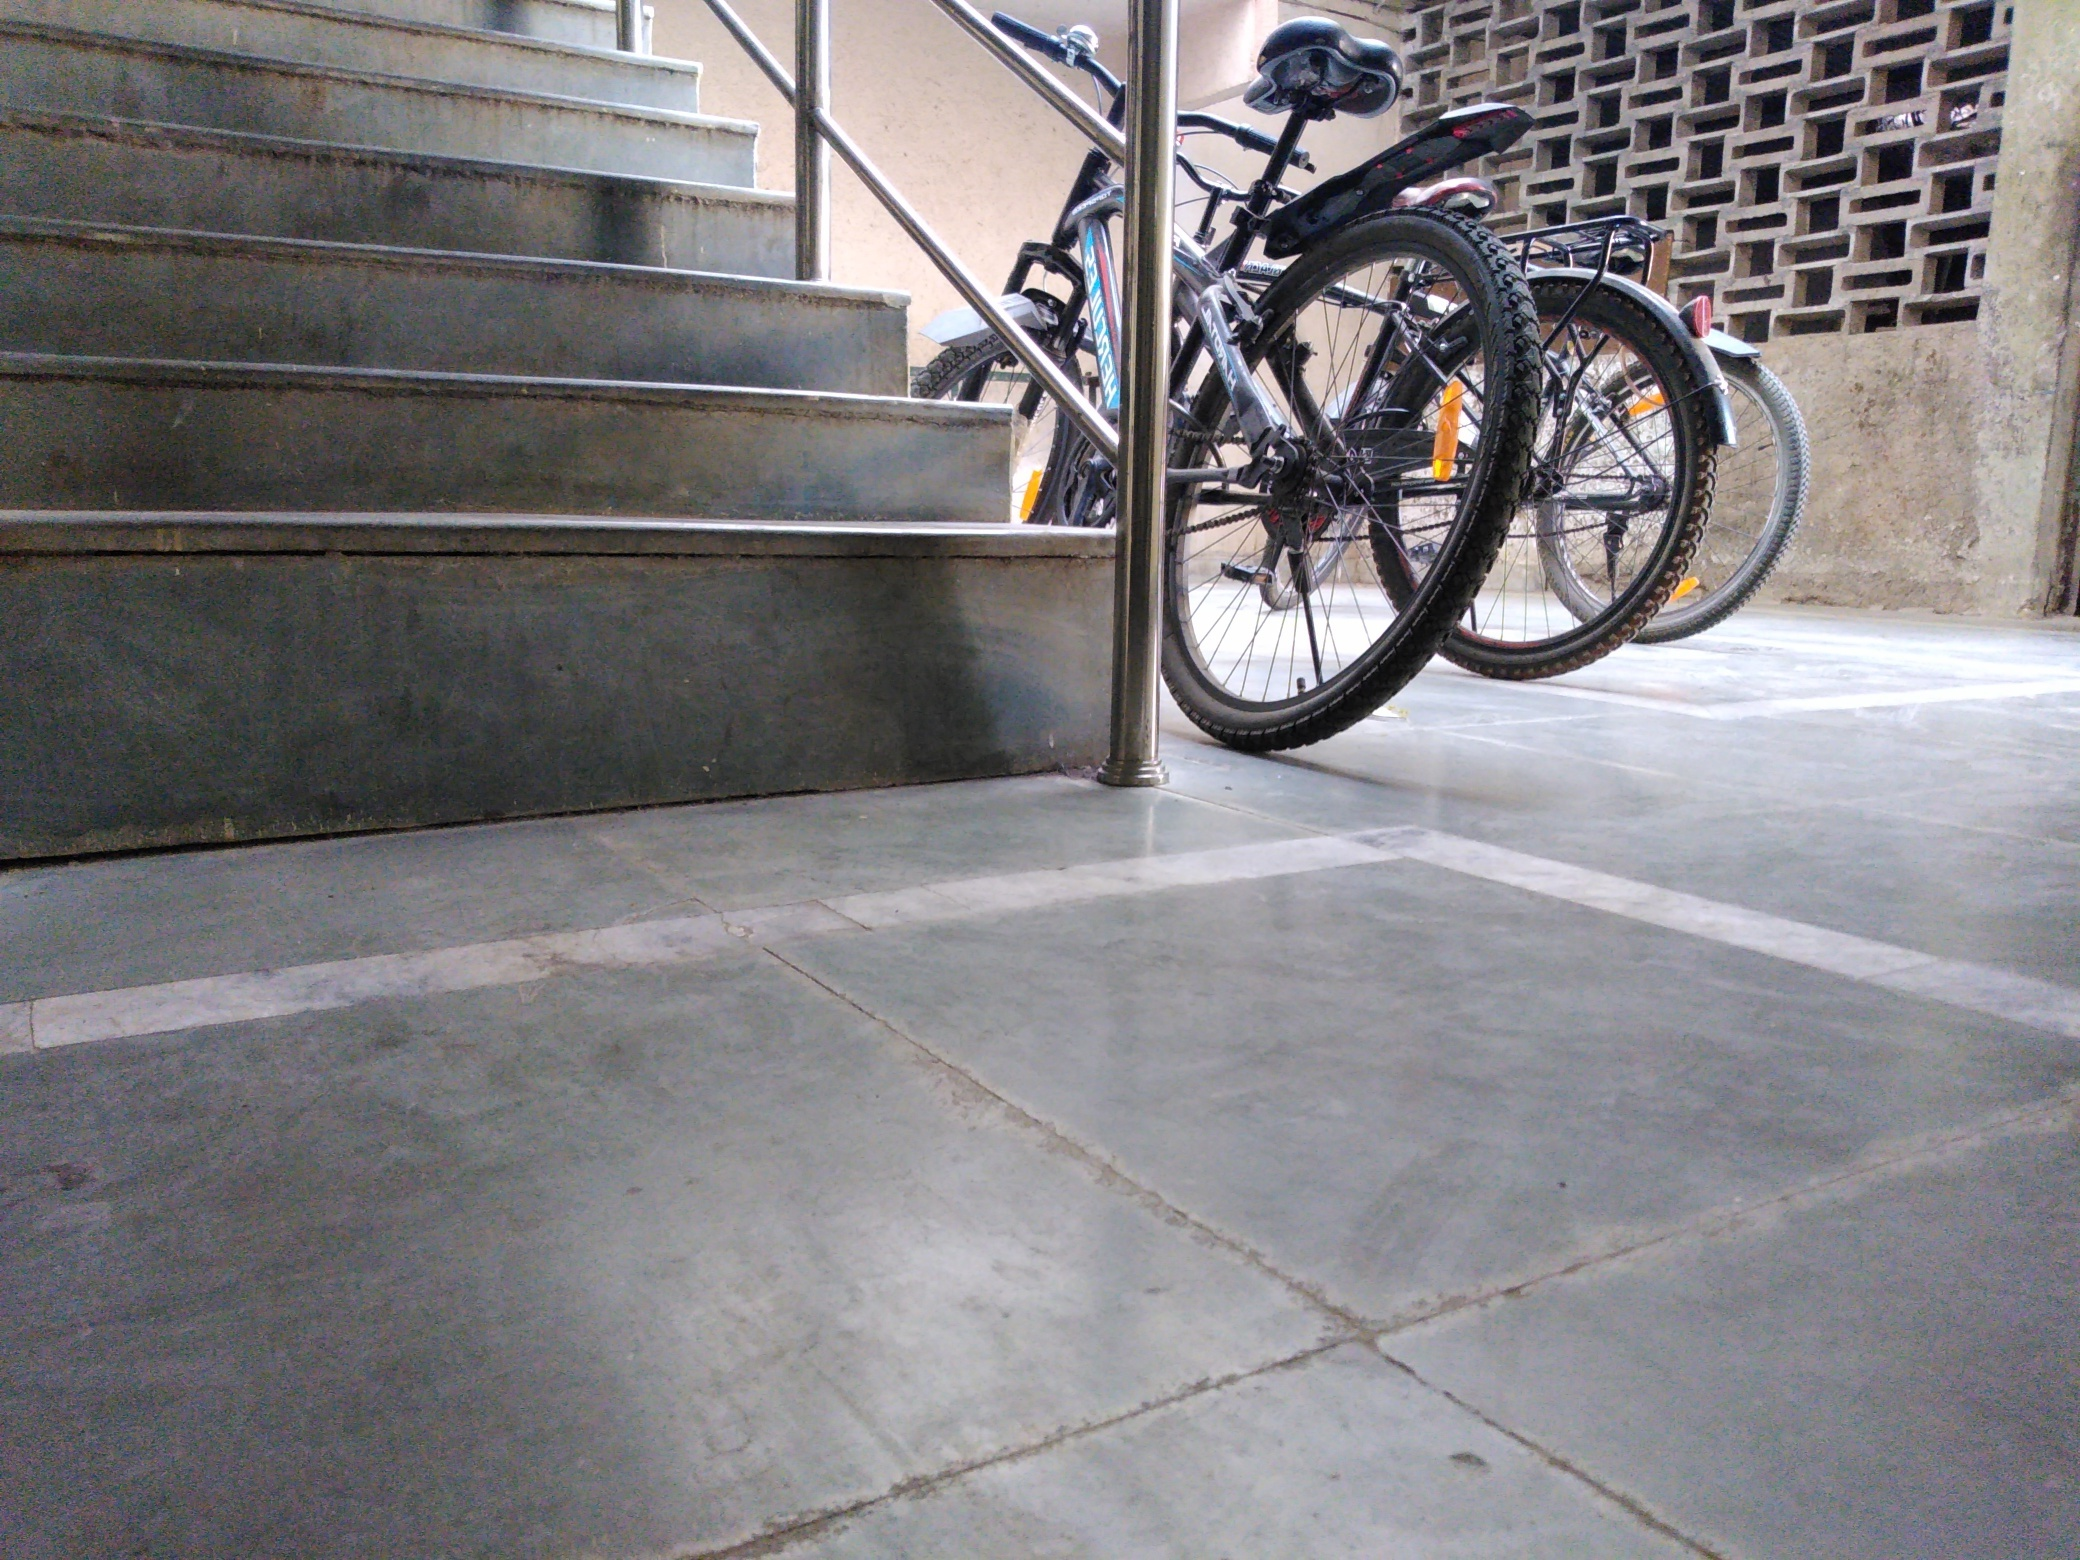stairs_up: (3, 21, 1055, 800)
